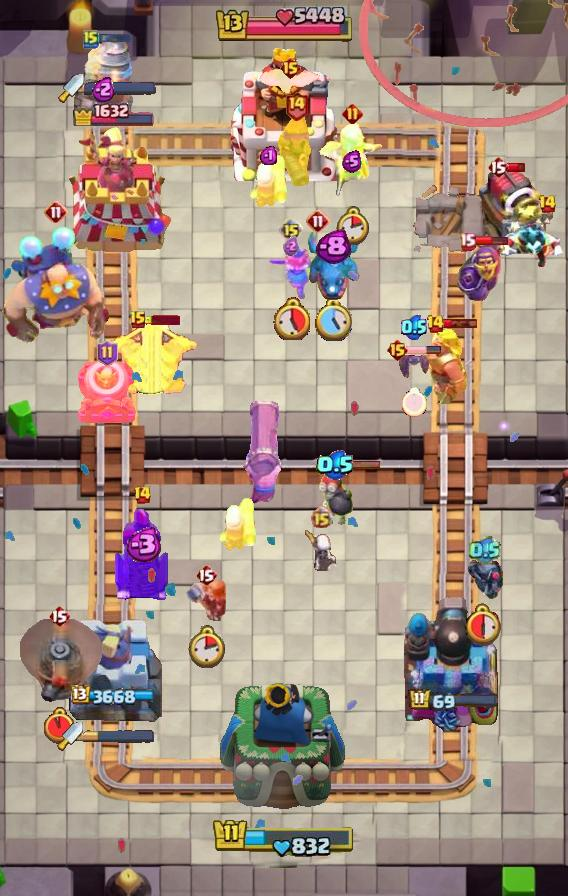bar: (55, 126, 173, 256), (66, 611, 162, 731)
barbarian: (257, 68, 323, 98)
barbarian-barrel: (395, 350, 433, 378)
battle-healer: (241, 401, 287, 505)
battle-ram: (464, 556, 506, 600)
bomb-tower: (275, 110, 317, 190)
clock: (212, 817, 356, 859), (213, 7, 355, 45)
dark-prince: (14, 619, 104, 705)
electro-spirit: (121, 527, 163, 561), (315, 229, 351, 265), (316, 450, 355, 480), (469, 535, 501, 564), (401, 314, 427, 340), (92, 76, 116, 102), (342, 151, 362, 174), (259, 145, 277, 165), (283, 236, 299, 256)
elixir: (465, 602, 505, 646), (187, 624, 225, 667), (274, 297, 311, 340), (315, 300, 352, 341), (335, 206, 368, 245), (45, 707, 75, 745), (401, 387, 426, 417)
emote: (330, 458, 382, 469), (474, 235, 509, 247), (96, 33, 131, 44), (442, 318, 477, 329), (144, 315, 180, 325), (406, 345, 442, 355), (507, 162, 526, 174)
firecracker-evolution: (455, 237, 504, 302)
goblin-cage: (75, 357, 139, 427)
goblin-hut: (424, 326, 467, 404)
golem: (469, 163, 555, 247)
graveyard: (304, 226, 362, 302)
heal-spirit: (304, 529, 338, 571)
hog-rider: (267, 247, 315, 301), (184, 578, 228, 628)
ice-golem: (316, 470, 354, 526)
ice-spirit-evolution-symbol: (112, 508, 172, 604)
king-tower: (219, 678, 349, 826), (231, 45, 337, 181)
king-tower-bar: (84, 81, 156, 95), (83, 729, 155, 743)
lava-pup: (103, 316, 201, 398)
little-prince: (0, 224, 112, 344)
lumberjack: (494, 215, 568, 273)
magic-archer: (74, 35, 134, 127)
poison: (316, 122, 388, 198)
selected: (409, 687, 500, 713), (72, 100, 156, 126), (71, 685, 157, 707)
skeleton-barrel: (356, 0, 567, 128)
text: (284, 91, 309, 122), (44, 200, 68, 224), (306, 209, 330, 233), (279, 218, 303, 242), (278, 56, 301, 80), (386, 338, 409, 362), (310, 506, 333, 530), (98, 340, 119, 366), (487, 155, 509, 179), (195, 563, 217, 587), (48, 604, 70, 628), (341, 103, 362, 125), (132, 485, 152, 505), (539, 194, 558, 214), (427, 314, 446, 334), (129, 310, 147, 330), (460, 232, 477, 251), (83, 29, 99, 49)
tombstone: (247, 152, 289, 210), (216, 495, 258, 553)
tower-bar: (404, 593, 502, 731)
